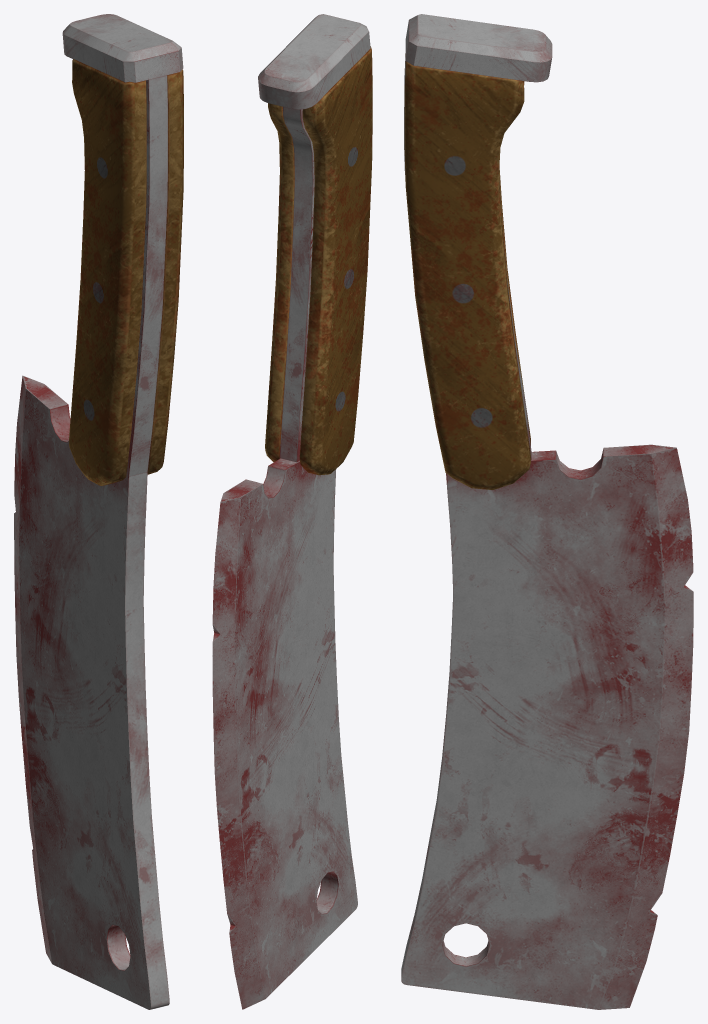
File: butcher_knife.fbx
3 renders of one model, left to right at view 1: azimuth 30°, elevation 25°; view 2: azimuth 150°, elevation 25°; view 3: azimuth 270°, elevation 25°, orthographic. The views are drawn at different scales.
Visible parts, largest first — view 1: Plane, Box.001, Box, Box.002; view 2: Plane, Box.001, Box, Box.002; view 3: Plane, Box.001, Box.002.
Part boxes in pixels (box(x1,y1,x2,y2)): Plane: box(14, 375, 169, 1009); Box.001: box(69, 59, 183, 485); Box: box(126, 75, 167, 476); Box.002: box(62, 14, 183, 82); Plane: box(212, 458, 357, 1009); Box.001: box(265, 46, 372, 475); Box: box(279, 107, 314, 462); Box.002: box(258, 14, 370, 109); Plane: box(401, 444, 693, 1009); Box.001: box(404, 53, 530, 489); Box.002: box(405, 14, 552, 82).
Size of the model in its own units: 0.276 by 4.28 by 1.16.
1 material, 1 textured.
